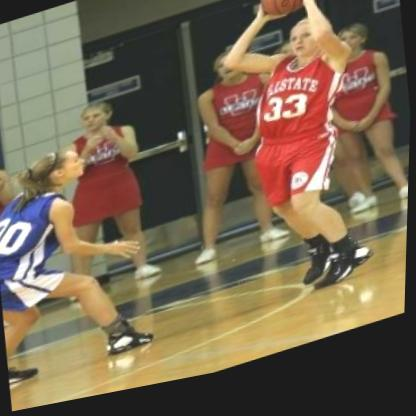basketball: (256, 0, 310, 40)
